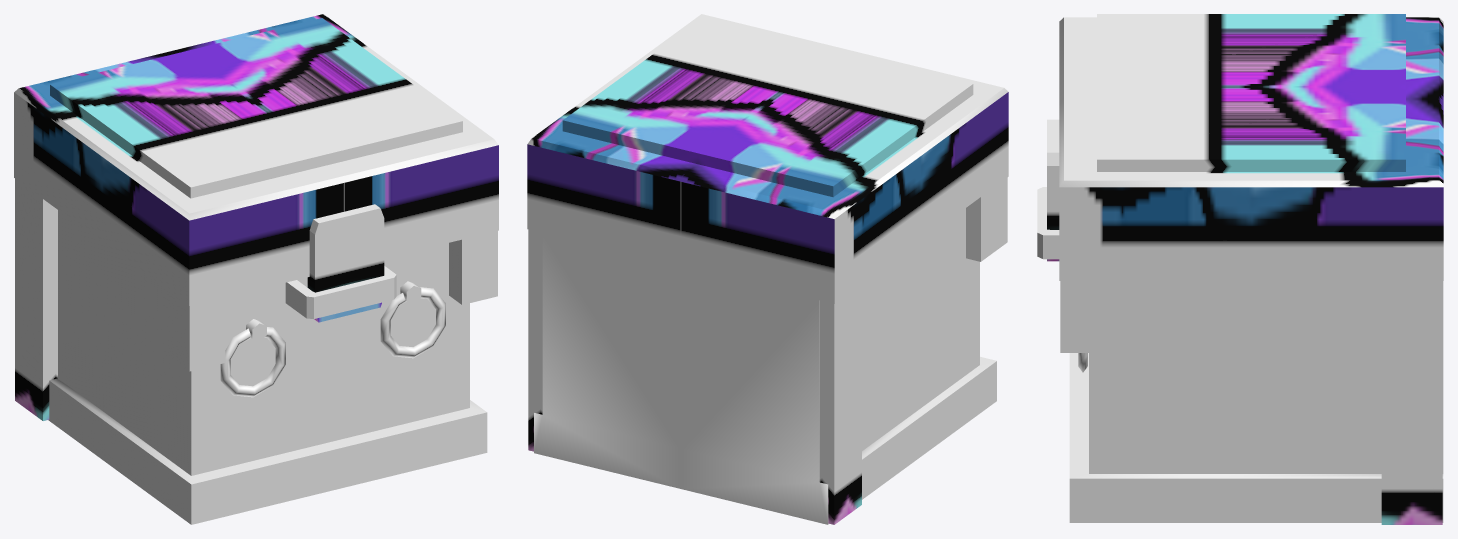
The picture shows the model from 3 angles, left to right: view 1: azimuth 30°, elevation 25°; view 2: azimuth 150°, elevation 25°; view 3: azimuth 270°, elevation 25°; orthographic projection. The views are drawn at different scales.
Visible parts, largest first — view 1: Decorate_Airdrop_Base_1_Mod; view 2: Decorate_Airdrop_Base_1_Mod; view 3: Decorate_Airdrop_Base_1_Mod.
Part boxes in pixels (left/top/right/bottom): Decorate_Airdrop_Base_1_Mod: left=14, top=14, right=498, bottom=524; Decorate_Airdrop_Base_1_Mod: left=527, top=14, right=1008, bottom=524; Decorate_Airdrop_Base_1_Mod: left=1037, top=14, right=1443, bottom=524.
Size of the model in its own units: 178 by 179 by 185.
